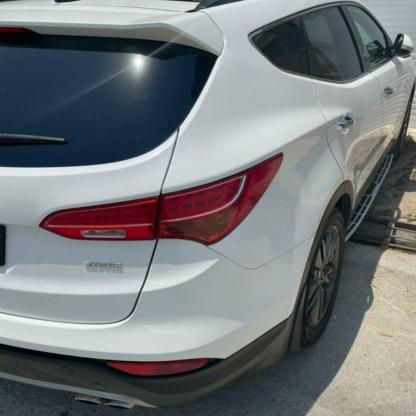Car: (0, 0, 416, 380)
